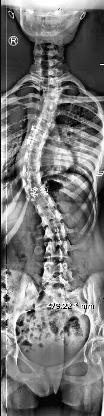Vertebrae: (41, 260, 71, 282), (36, 209, 66, 227), (43, 279, 72, 297), (42, 224, 70, 242), (42, 242, 72, 258), (32, 197, 60, 214), (25, 186, 51, 202), (21, 175, 45, 189), (21, 138, 44, 152), (21, 150, 44, 164), (36, 108, 56, 122), (32, 117, 52, 131), (28, 127, 48, 141), (22, 162, 42, 176), (41, 97, 59, 111), (42, 76, 60, 88), (42, 87, 60, 99)
